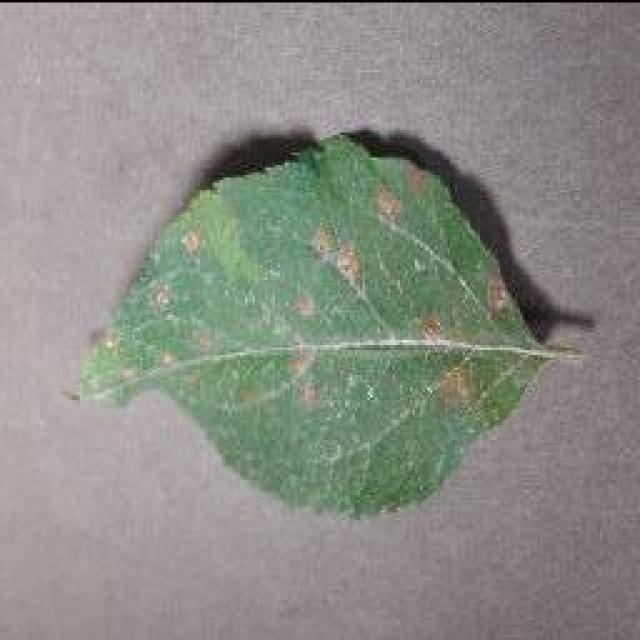apple healthy: (70, 128, 585, 520)
